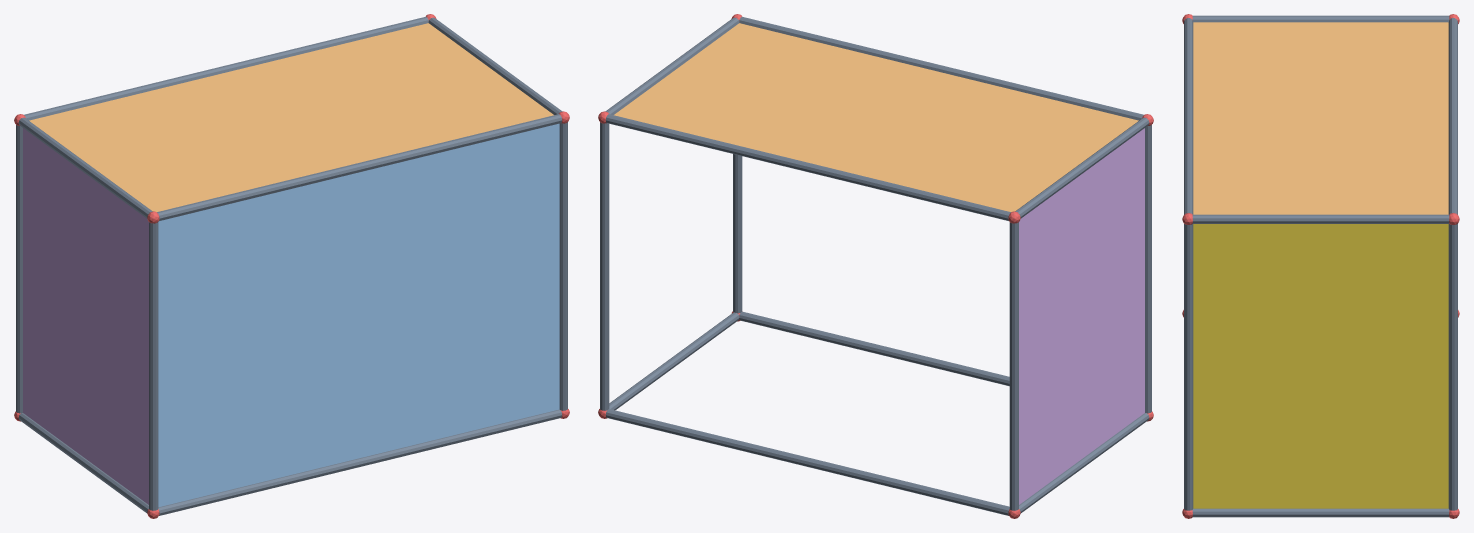
Rendered from hopchunhat.glb.
3 views of the same model, side by side, from view 1: azimuth 30°, elevation 25°; view 2: azimuth 150°, elevation 25°; view 3: azimuth 270°, elevation 25° (orthographic).
Parts seen in each view (by area): view 1: world; view 2: world; view 3: world.
Part boxes in pixels (x1,y1,x2,y2): world: (14, 14, 569, 518); world: (598, 14, 1153, 518); world: (1182, 14, 1459, 518).
Size of the model in its own units: 0.2877 by 0.2002 by 0.1652.
